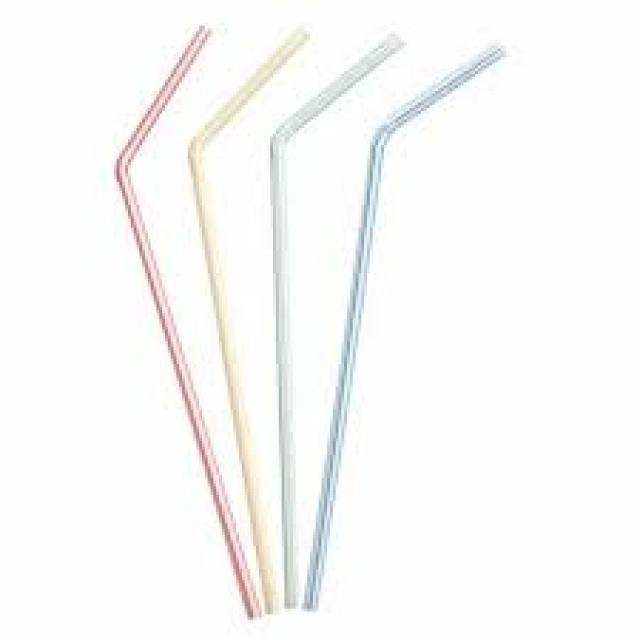straw: (304, 48, 501, 608), (115, 26, 262, 617), (270, 34, 402, 607), (188, 29, 309, 617)
